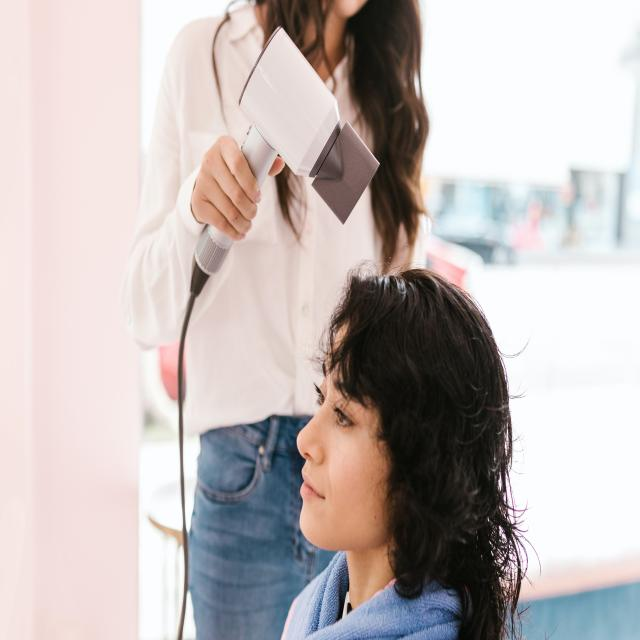dryer: (190, 22, 380, 296)
